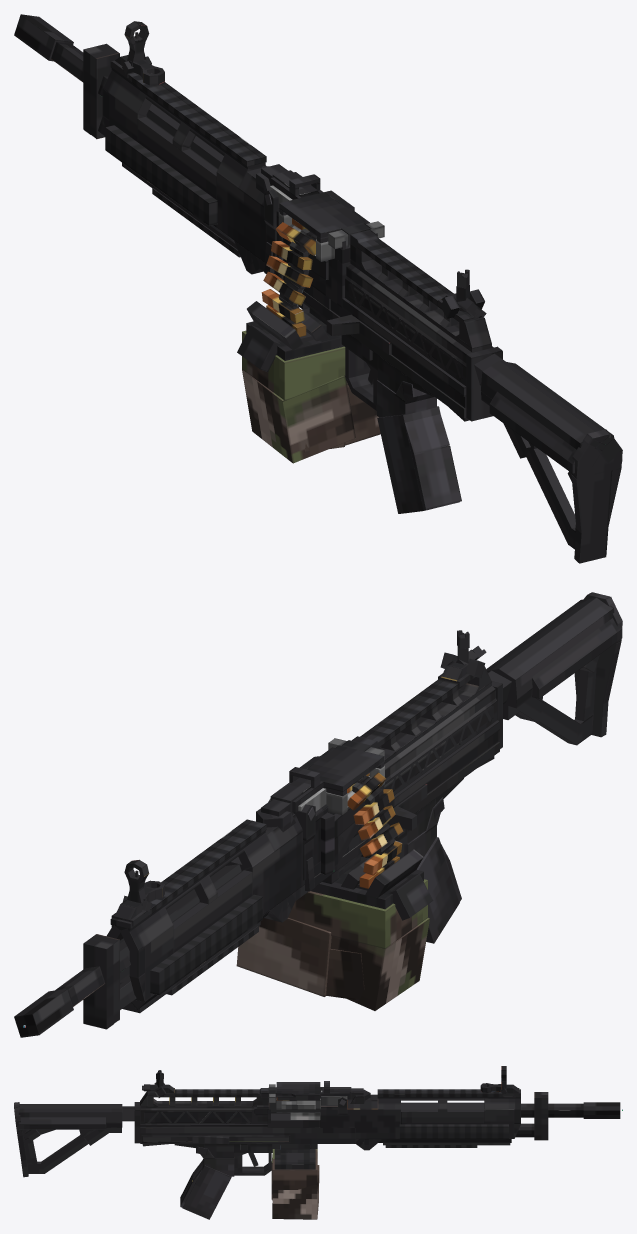
Rendered from lamg.obj.
The picture shows the model from 3 angles, top to bottom: view 1: azimuth 30°, elevation 25°; view 2: azimuth 150°, elevation 25°; view 3: azimuth 270°, elevation 25°; orthographic projection. The views are drawn at different scales.
Visible parts, largest first — view 1: gun_197, magazine_10, stock, cover_14, frontironsight_12, bolt_3, bullet4_2; view 2: gun_197, magazine_10, stock, cover_14, frontironsight_12, bolt_3, bullet3_2, bullet6_2, bullet5_2, bullet2_2, bullet4_2; view 3: gun_197, stock, magazine_10, cover_14, frontironsight_12, action_1.
Part boxes in pixels (box(x1,y1,x2,y2)): gun_197: box(14, 14, 505, 513); magazine_10: box(237, 301, 380, 463); stock: box(481, 360, 622, 563); cover_14: box(270, 172, 384, 248); frontironsight_12: box(124, 21, 164, 85); bolt_3: box(326, 314, 391, 354); bullet4_2: box(266, 255, 313, 288); gun_197: box(14, 652, 511, 1037); magazine_10: box(236, 849, 433, 1010); stock: box(486, 592, 622, 745); cover_14: box(270, 738, 384, 812); frontironsight_12: box(124, 859, 164, 905); bolt_3: box(387, 784, 427, 830); bullet3_2: box(359, 822, 403, 857); bullet6_2: box(347, 772, 385, 810); bullet5_2: box(353, 789, 394, 824); bullet2_2: box(363, 840, 402, 875); bullet4_2: box(358, 805, 395, 840); gun_197: box(122, 1082, 620, 1219); stock: box(14, 1102, 122, 1177); magazine_10: box(271, 1145, 319, 1219); cover_14: box(268, 1081, 349, 1102); frontironsight_12: box(480, 1066, 506, 1092); action_1: box(290, 1112, 320, 1119).
Bounding box in the file's own units: 1.14 × 1.88 × 6.97.
